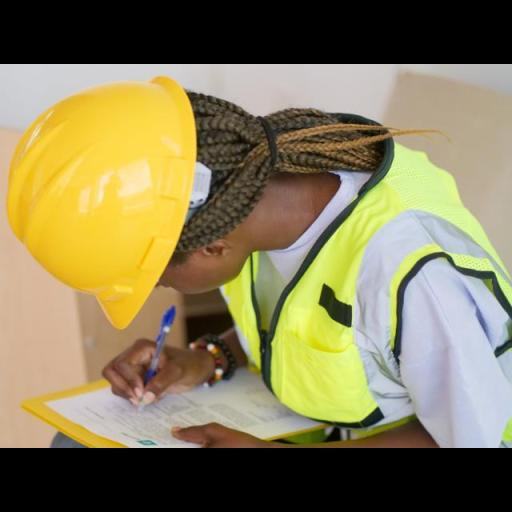Person: (2, 54, 510, 462)
helmet: (0, 76, 196, 336)
vest: (206, 126, 511, 432)
